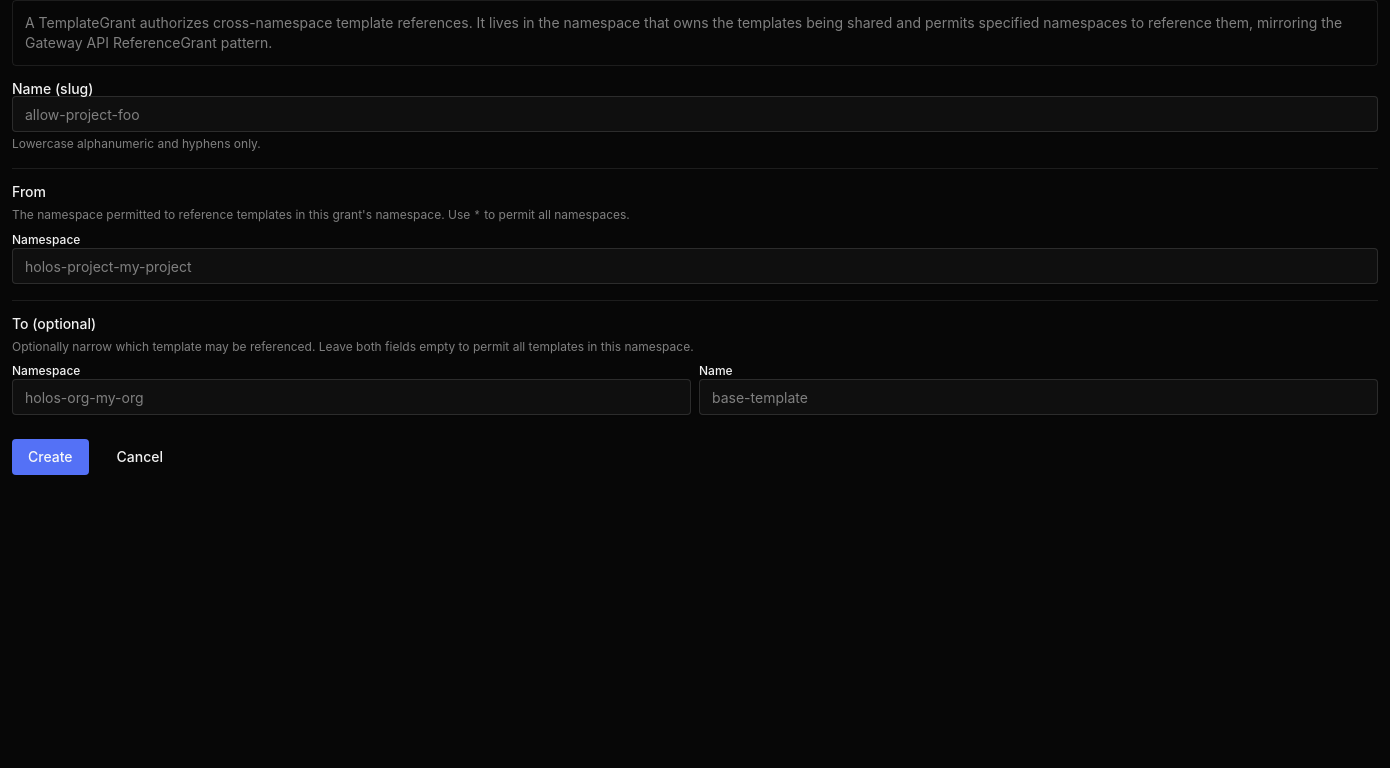
Test: GrantForm (HOL-1022) › shows an error when name is empty on submit
What coordinates should you click on to do the following:
click the button "Create"
I would click on:
 (50, 457)
Its box is [12, 439, 89, 475].
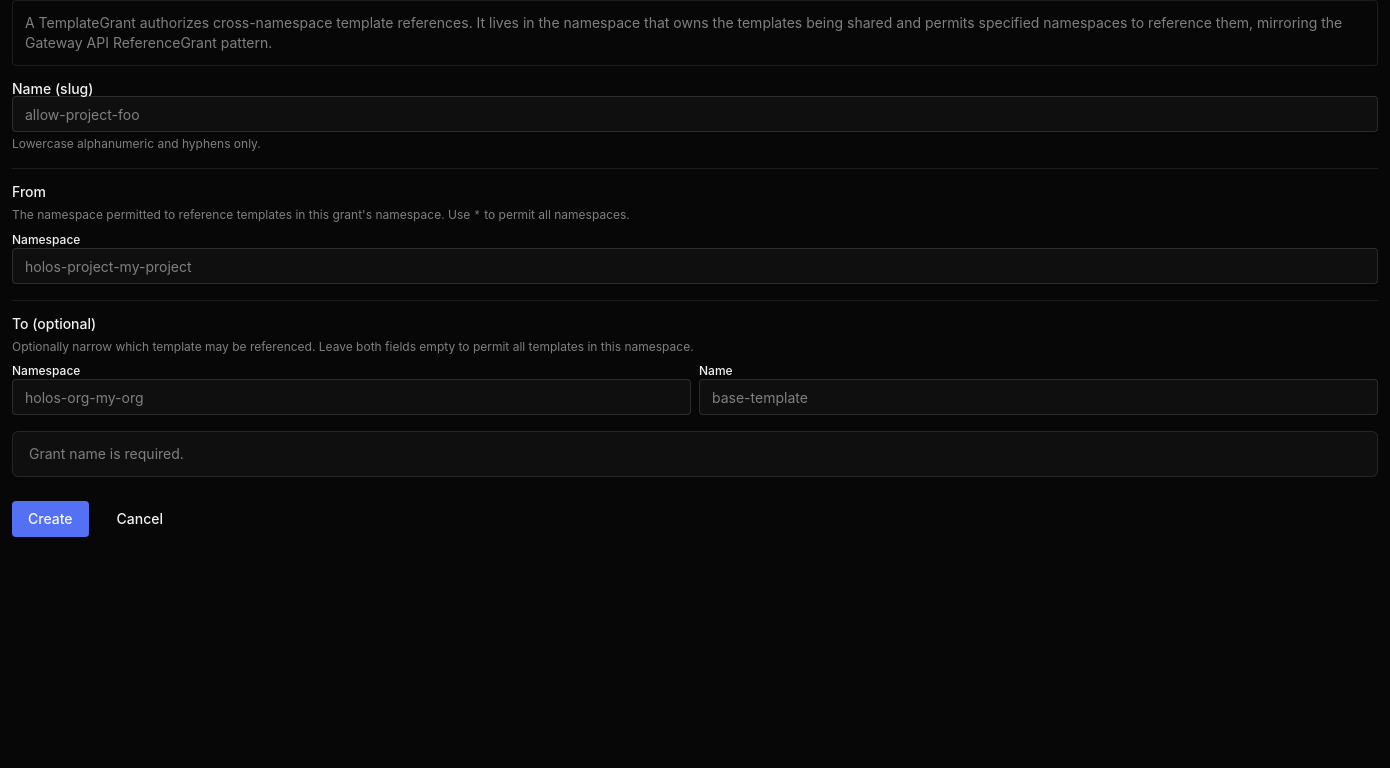
Check: the element with test id "grant-form-error" reads "Grant name is required.", box [29, 445, 184, 462]
